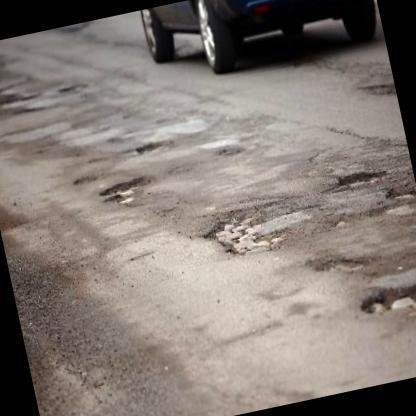pothole: (203, 213, 284, 255), (360, 282, 416, 315), (372, 184, 416, 221), (101, 174, 152, 204), (326, 166, 384, 190), (308, 255, 370, 275), (360, 78, 394, 100), (135, 138, 170, 158), (220, 142, 248, 159)
